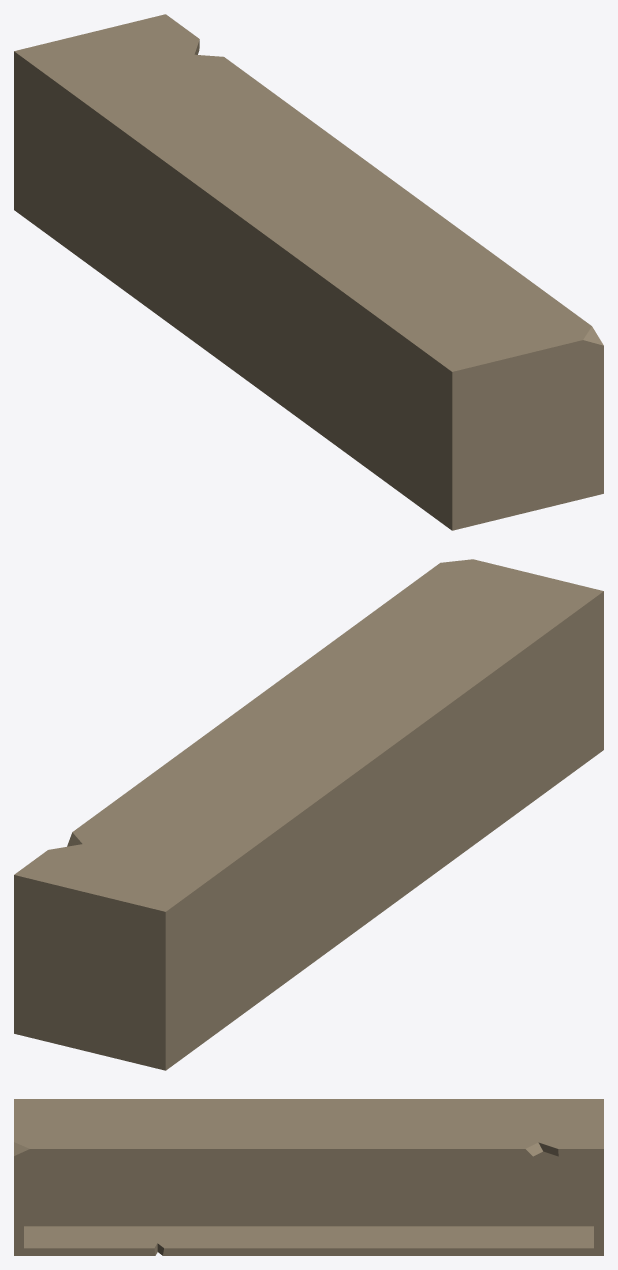
The model's file is SM_Cabinets03.fbx.
3 renders of one model, top to bottom at view 1: azimuth 30°, elevation 25°; view 2: azimuth 150°, elevation 25°; view 3: azimuth 270°, elevation 25°, orthographic. The views are drawn at different scales.
Parts seen in each view (by area): view 1: polySurface67; view 2: polySurface67; view 3: polySurface67.
Boxes of the visible parts, left/top/right/bottom form: polySurface67: left=14, top=14, right=603, bottom=530; polySurface67: left=14, top=559, right=603, bottom=1070; polySurface67: left=14, top=1099, right=603, bottom=1255.
Size of the model in its own units: 100 by 100 by 500.
